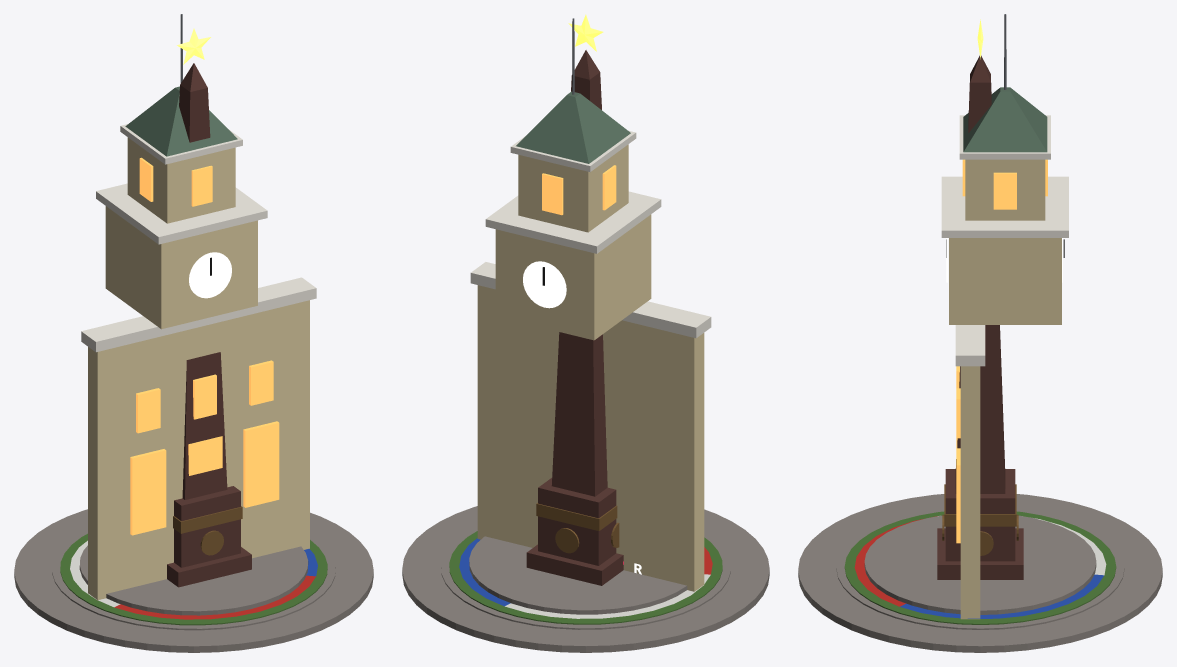
The model's file is landmarks.glb.
The picture shows the model from 3 angles, left to right: view 1: azimuth 30°, elevation 25°; view 2: azimuth 150°, elevation 25°; view 3: azimuth 270°, elevation 25°; orthographic projection. The views are drawn at different scales.
Visible parts, largest first — view 1: risalit, platform, tier1, step, tier2, shaft, tier1Cornice, cornice, pedestal, roof, arch0, arch2 (+14 smaller); view 2: risalit, platform, tier1, shaft, step, tier2, roof, tier1Cornice, pedestal, bedEdge, curb, cornice (+8 smaller); view 3: platform, step, tier1, risalit, shaft, tier1Cornice, tier2, roof, bedEdge, curb, pedestal, plinth.001 (+6 smaller).
Part boxes in pixels (x1=…): risalit: x1=88, y1=300, x2=309, y2=600; platform: x1=14, y1=509, x2=373, y2=652; tier1: x1=105, y1=206, x2=257, y2=329; step: x1=79, y1=545, x2=308, y2=615; tier2: x1=127, y1=137, x2=235, y2=223; shaft: x1=179, y1=85, x2=227, y2=499; tier1Cornice: x1=96, y1=183, x2=267, y2=244; cornice: x1=81, y1=277, x2=316, y2=352; pedestal: x1=174, y1=486, x2=240, y2=567; roof: x1=125, y1=86, x2=237, y2=156; arch0: x1=130, y1=449, x2=166, y2=535; arch2: x1=243, y1=421, x2=279, y2=507; risalit: x1=477, y1=285, x2=704, y2=591; platform: x1=402, y1=506, x2=769, y2=652; tier1: x1=495, y1=214, x2=651, y2=340; shaft: x1=551, y1=72, x2=607, y2=496; step: x1=469, y1=536, x2=687, y2=614; tier2: x1=518, y1=144, x2=628, y2=232; roof: x1=516, y1=91, x2=630, y2=163; tier1Cornice: x1=485, y1=191, x2=661, y2=253; pedestal: x1=538, y1=477, x2=616, y2=565; bedEdge: x1=449, y1=531, x2=722, y2=624; curb: x1=441, y1=526, x2=730, y2=629; cornice: x1=470, y1=262, x2=711, y2=338; platform: x1=798, y1=494, x2=1162, y2=652; step: x1=864, y1=515, x2=1096, y2=614; tier1: x1=949, y1=238, x2=1061, y2=324; risalit: x1=960, y1=366, x2=980, y2=619; shaft: x1=955, y1=82, x2=1005, y2=493; tier1Cornice: x1=941, y1=176, x2=1068, y2=237; tier2: x1=965, y1=159, x2=1045, y2=220; roof: x1=963, y1=87, x2=1047, y2=152; bedEdge: x1=844, y1=511, x2=1116, y2=624; curb: x1=836, y1=509, x2=1124, y2=629; pedestal: x1=945, y1=469, x2=1015, y2=561; plinth.001: x1=937, y1=528, x2=1023, y2=579.
Size of the model in its own units: 22 by 37.4 by 22.
